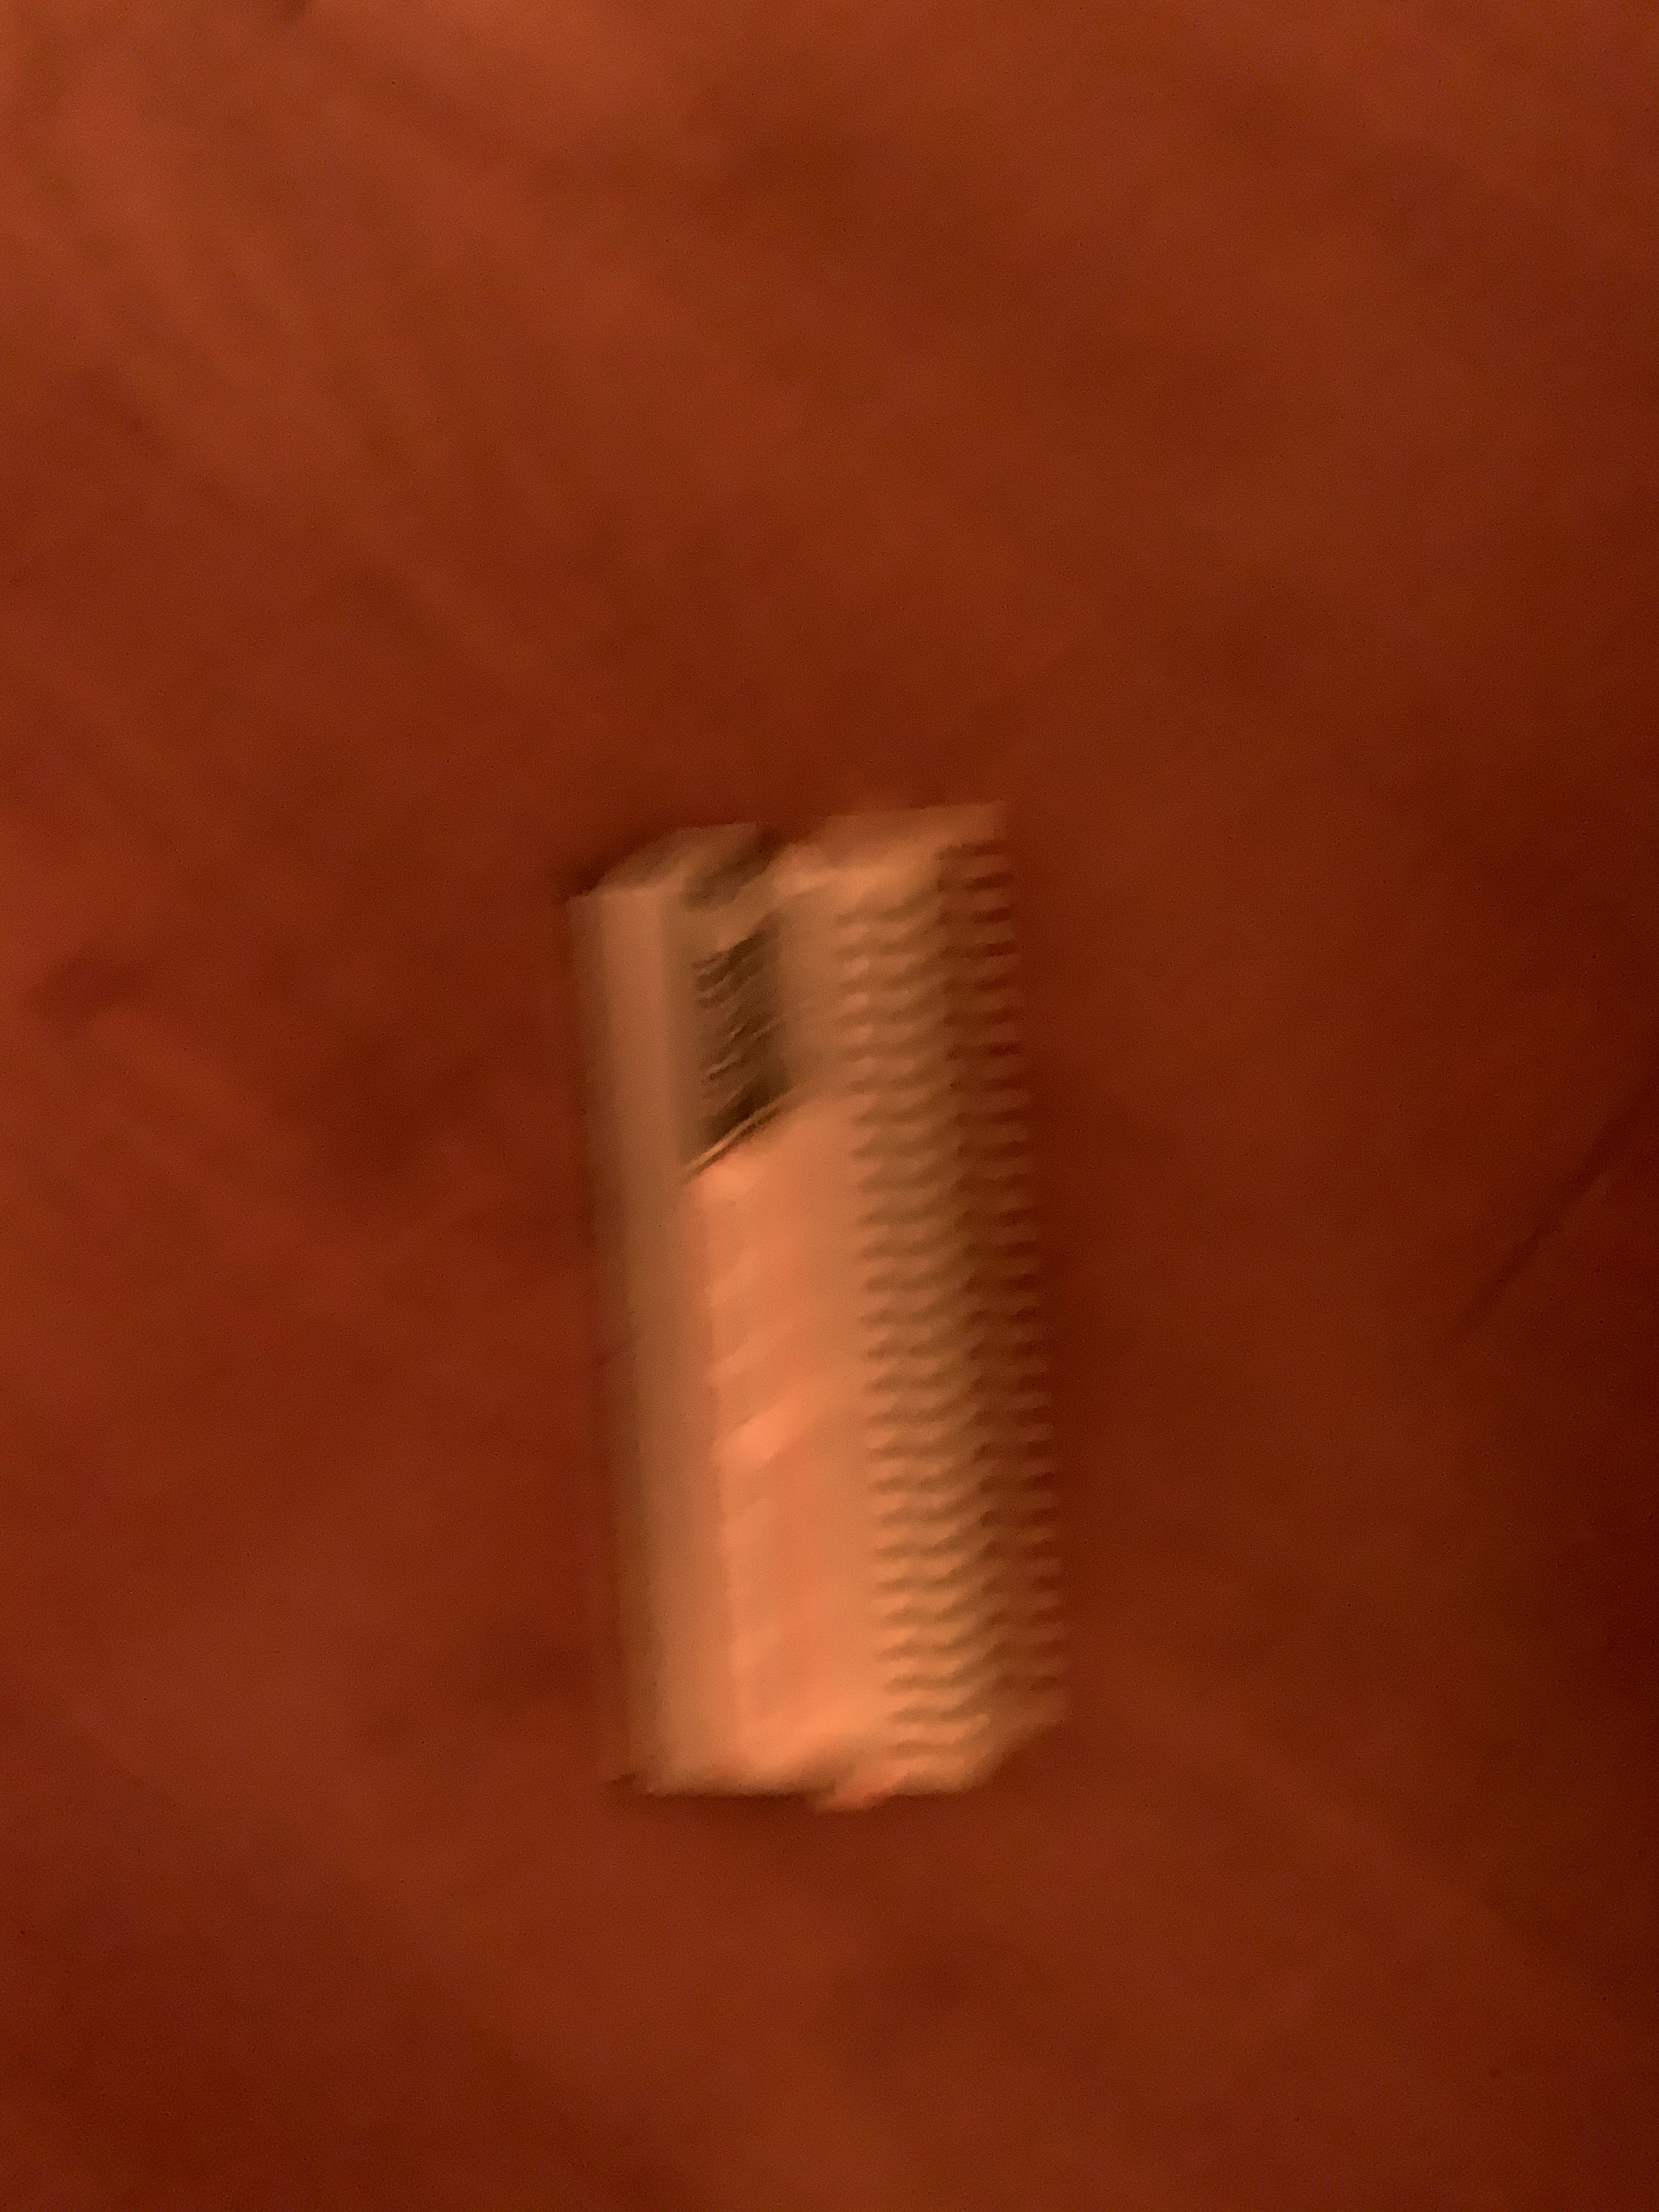Space-debris-medium: (495, 752, 1162, 1864)
